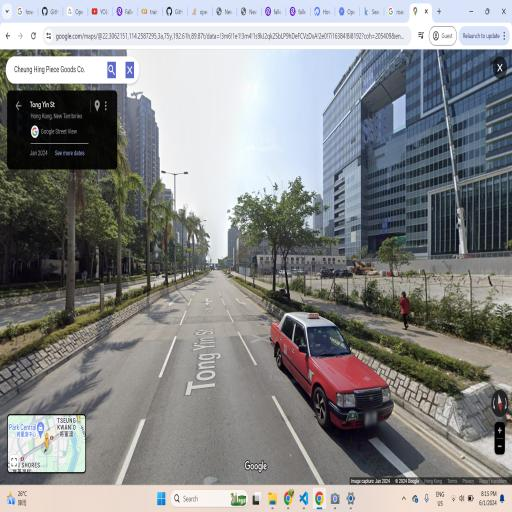Roads: (182, 275, 256, 484)
Trees: (247, 169, 314, 302), (127, 156, 162, 304), (158, 162, 182, 317)
